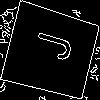J: (25, 27, 74, 63)
